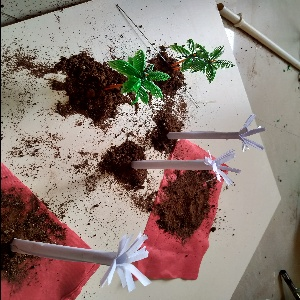plant: (102, 51, 177, 111), (164, 31, 239, 91)
weed: (12, 219, 178, 294), (125, 144, 228, 194), (162, 115, 270, 154)
